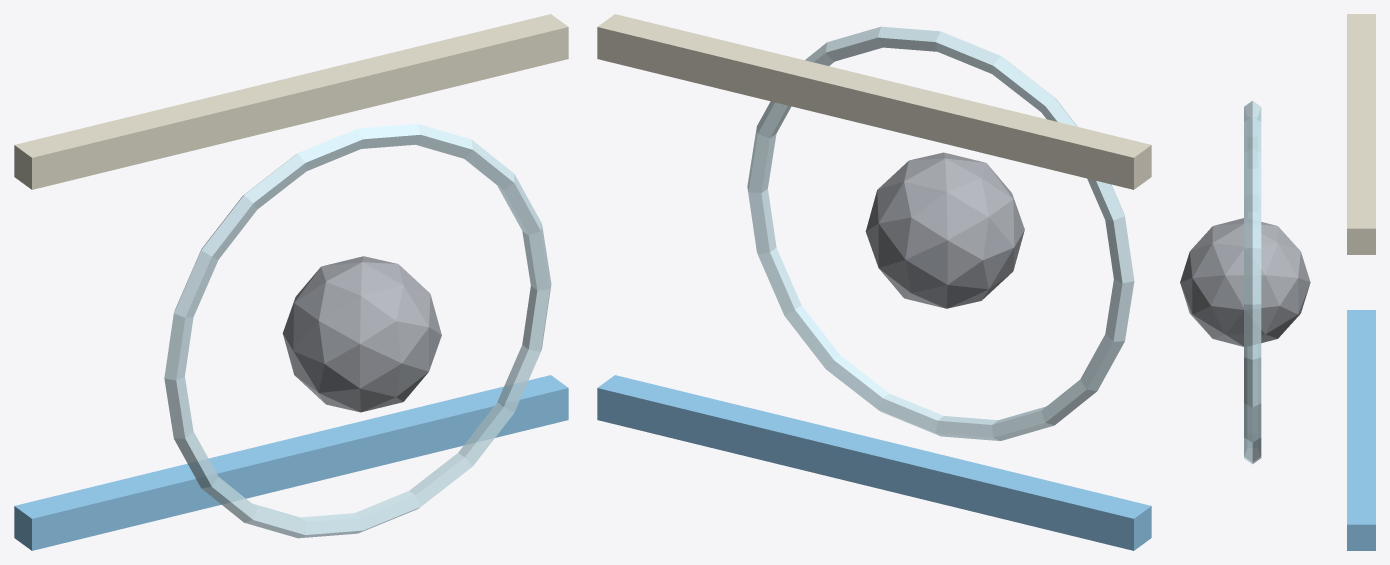
File: 03_material_polish_overlay_3.glb
3 views of the same model, side by side, from view 1: azimuth 30°, elevation 25°; view 2: azimuth 150°, elevation 25°; view 3: azimuth 270°, elevation 25° (orthographic). The views are drawn at different scales.
Visible parts, largest first — view 1: polished_trim_bar_b, polished_trim_bar_a, material_preview_ring, reflective_sample_core; view 2: polished_trim_bar_a, polished_trim_bar_b, material_preview_ring, reflective_sample_core; view 3: reflective_sample_core, polished_trim_bar_a, polished_trim_bar_b, material_preview_ring.
Part boxes in pixels (bbox=[...]): polished_trim_bar_b: bbox=[14, 14, 568, 189]; polished_trim_bar_a: bbox=[14, 375, 568, 550]; material_preview_ring: bbox=[164, 124, 551, 538]; reflective_sample_core: bbox=[282, 256, 441, 412]; polished_trim_bar_a: bbox=[597, 375, 1151, 550]; polished_trim_bar_b: bbox=[597, 14, 1151, 189]; material_preview_ring: bbox=[747, 26, 1134, 440]; reflective_sample_core: bbox=[865, 152, 1024, 308]; reflective_sample_core: bbox=[1180, 218, 1310, 346]; polished_trim_bar_a: bbox=[1347, 310, 1375, 550]; polished_trim_bar_b: bbox=[1347, 14, 1375, 254]; material_preview_ring: bbox=[1244, 100, 1261, 464].
Bounding box in the file's own units: 1.4 × 1.01 × 0.54.
